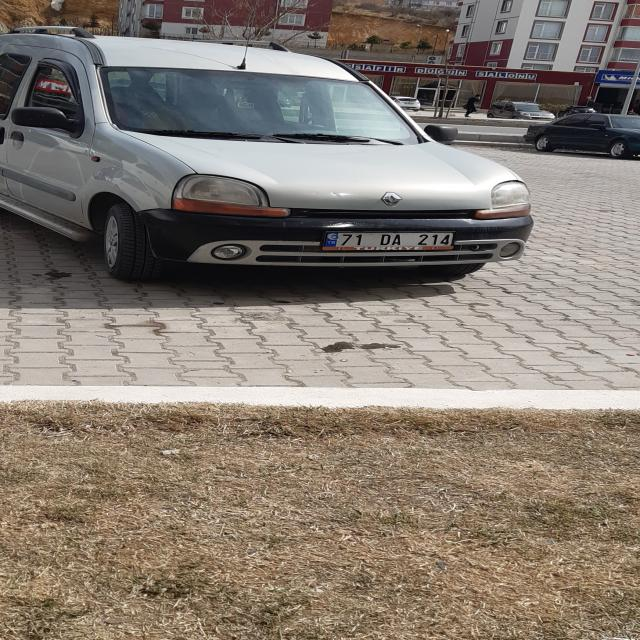plate: (323, 232, 454, 247)
